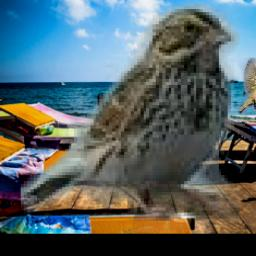Sparrow: (22, 4, 241, 222), (237, 58, 256, 118)
